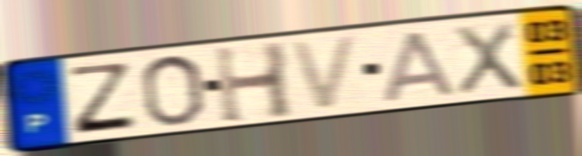A: (380, 28, 459, 105)
H: (212, 39, 298, 127)
O: (138, 51, 207, 128)
V: (286, 32, 362, 115)
X: (451, 18, 525, 98)
Z: (68, 61, 139, 137)
